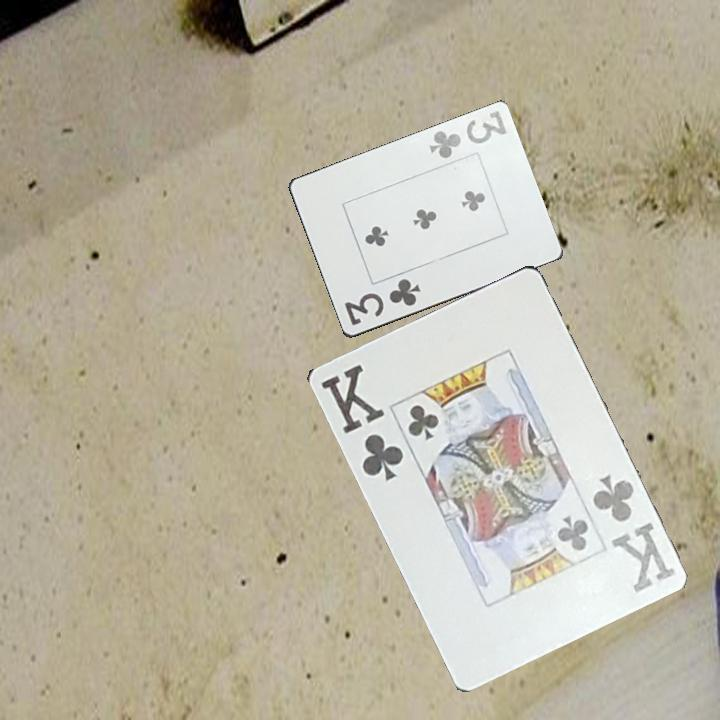3c: (425, 107, 509, 162), (340, 275, 424, 329)
Kc: (588, 469, 677, 595), (316, 360, 406, 484)
